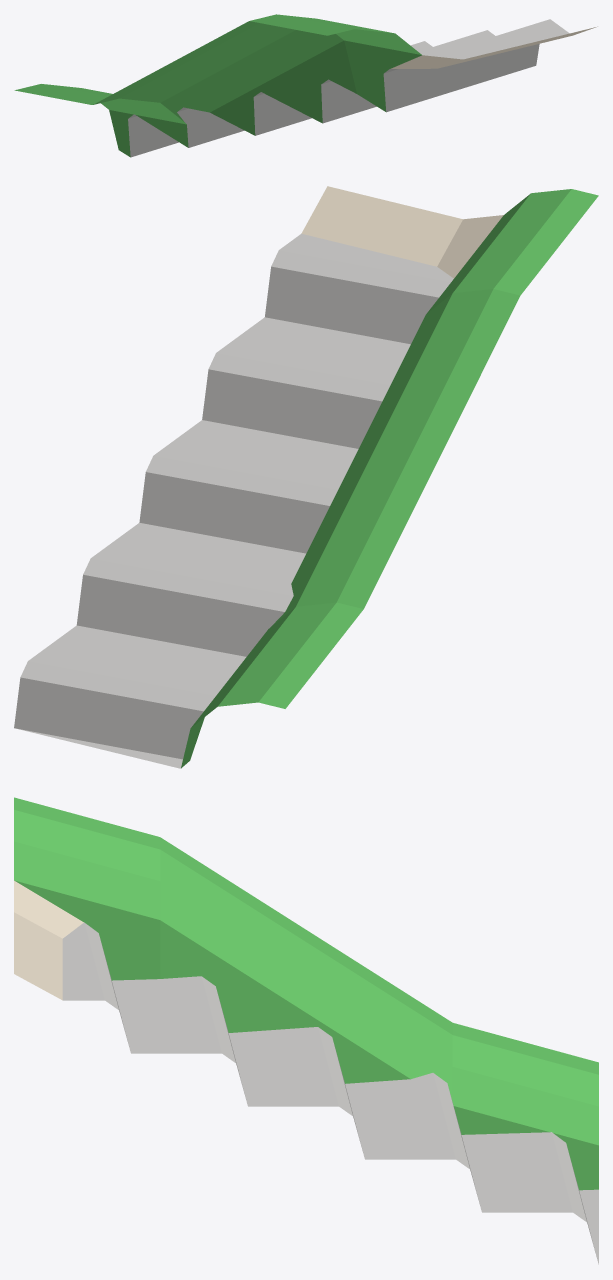
The model's file is Cliff_Terrain_Path_Steps_Grass_Edge_Top.glb.
The picture shows the model from 3 angles, top to bottom: view 1: azimuth 30°, elevation 25°; view 2: azimuth 150°, elevation 25°; view 3: azimuth 270°, elevation 25°; orthographic projection. The views are drawn at different scales.
Visible parts, largest first — view 1: Cliff_Terrain_Path_Steps_Grass_Edge_Top; view 2: Cliff_Terrain_Path_Steps_Grass_Edge_Top; view 3: Cliff_Terrain_Path_Steps_Grass_Edge_Top.
Boxes of the visible parts, box(x1,y1,x2,y2) form: Cliff_Terrain_Path_Steps_Grass_Edge_Top: box(14, 14, 597, 157); Cliff_Terrain_Path_Steps_Grass_Edge_Top: box(14, 186, 598, 768); Cliff_Terrain_Path_Steps_Grass_Edge_Top: box(14, 797, 598, 1264).
Size of the model in its own units: 0.53 by 0.689 by 1.06.
